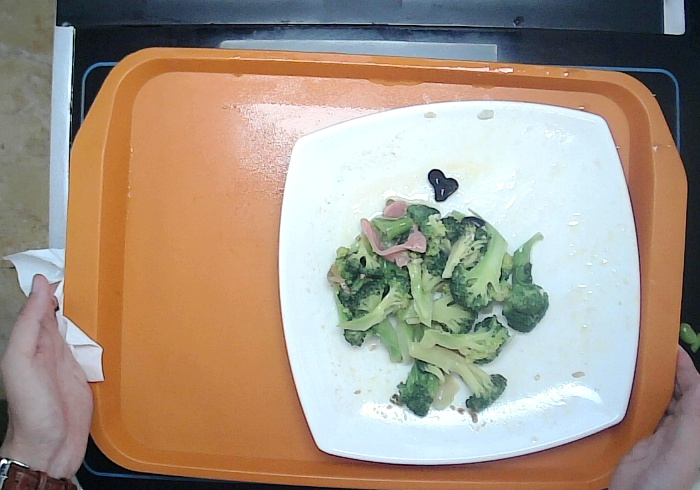ZNLD-Bai_Fang_Pan: (263, 94, 649, 469)
